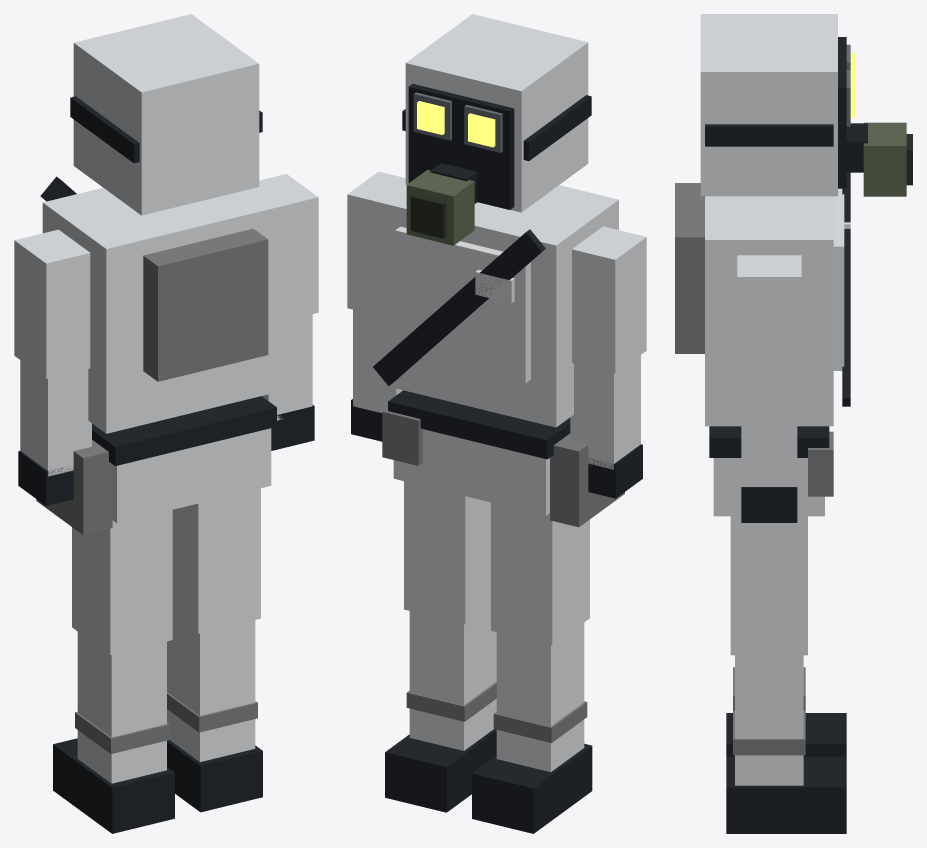
Rendered from gas_mask_white.glb.
The picture shows the model from 3 angles, left to right: view 1: azimuth 30°, elevation 25°; view 2: azimuth 150°, elevation 25°; view 3: azimuth 270°, elevation 25°; orthographic projection. The views are drawn at different scales.
Parts seen in each view (by area): view 1: Merged4, Merged, Merged7, Merged5, Merged6, _MeshInstance3D_1725, _MeshInstance3D_1736, _MeshInstance3D_1720, Merged2, _MeshInstance3D_1731, Merged3; view 2: Merged4, Merged, Merged7, Merged5, Merged6, _MeshInstance3D_1725, _MeshInstance3D_1736, _MeshInstance3D_1720, Merged2, _MeshInstance3D_1731, Merged3; view 3: Merged, Merged4, Merged6, _MeshInstance3D_1736, _MeshInstance3D_1731, Merged3, Merged7, Merged5.
Boxes of the visible parts, x1,y1,x2,y2 form: Merged4: [40, 176, 290, 433]; Merged: [70, 14, 262, 215]; Merged7: [36, 396, 276, 534]; Merged5: [53, 632, 174, 833]; Merged6: [167, 615, 262, 812]; _MeshInstance3D_1725: [72, 510, 172, 655]; _MeshInstance3D_1736: [172, 488, 260, 633]; _MeshInstance3D_1720: [14, 229, 90, 378]; Merged2: [18, 360, 91, 505]; _MeshInstance3D_1731: [259, 174, 318, 319]; Merged3: [262, 314, 314, 450]; Merged4: [373, 179, 618, 427]; Merged: [402, 14, 591, 245]; Merged7: [382, 390, 624, 527]; Merged5: [472, 623, 592, 833]; Merged6: [385, 606, 496, 812]; _MeshInstance3D_1725: [491, 502, 589, 645]; _MeshInstance3D_1736: [404, 481, 490, 624]; _MeshInstance3D_1720: [572, 226, 646, 373]; Merged2: [570, 355, 642, 498]; _MeshInstance3D_1731: [347, 171, 405, 314]; Merged3: [351, 309, 402, 441]; Merged: [700, 14, 912, 196]; Merged4: [675, 172, 850, 426]; Merged6: [726, 655, 846, 833]; _MeshInstance3D_1736: [730, 516, 807, 655]; _MeshInstance3D_1731: [737, 255, 801, 393]; Merged3: [741, 393, 797, 522]; Merged7: [709, 426, 833, 516]; Merged5: [726, 667, 846, 756].
Bounding box in the file's own units: 0.74 × 1.94 × 0.555.
